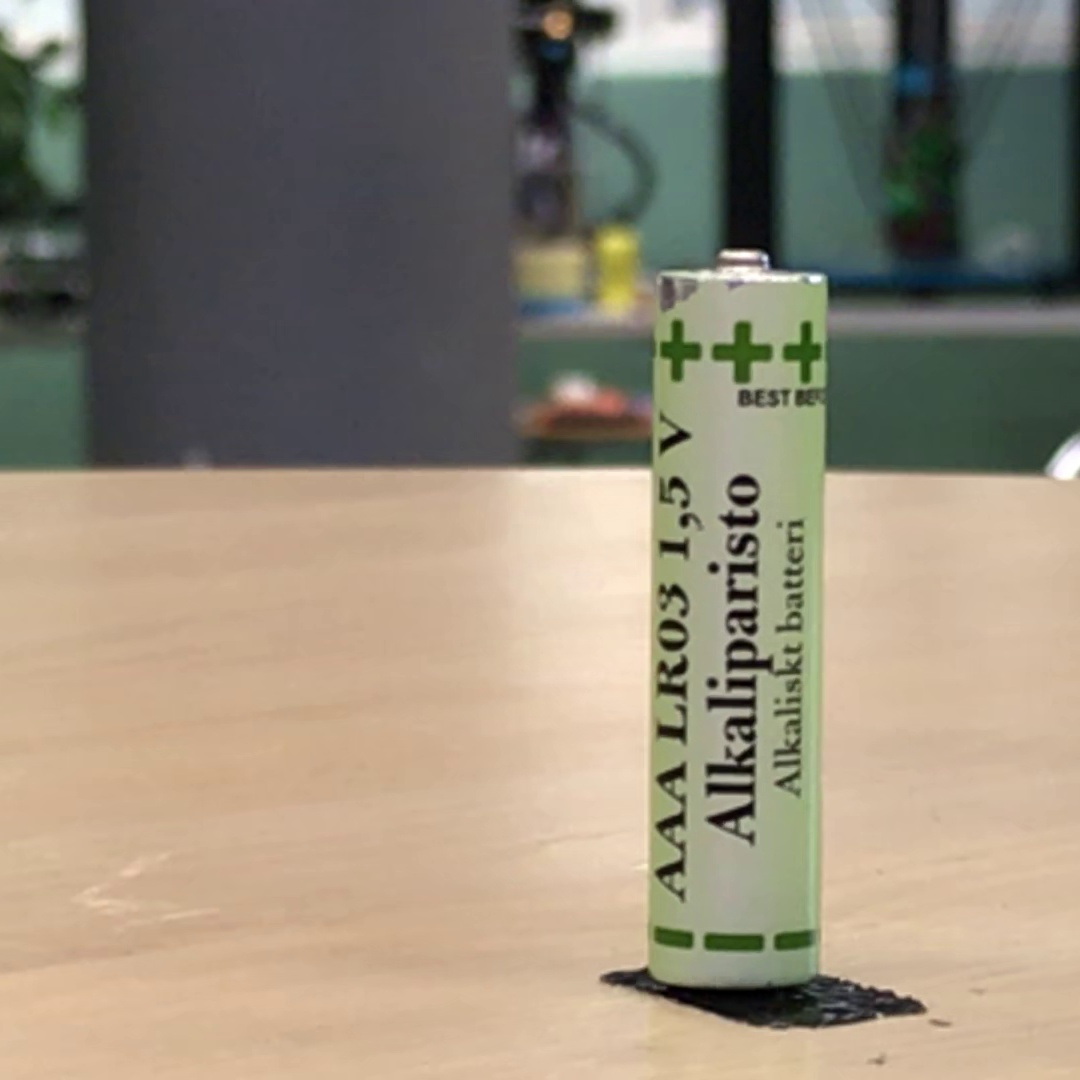keyword: (649, 404, 700, 570), (695, 770, 766, 856)
